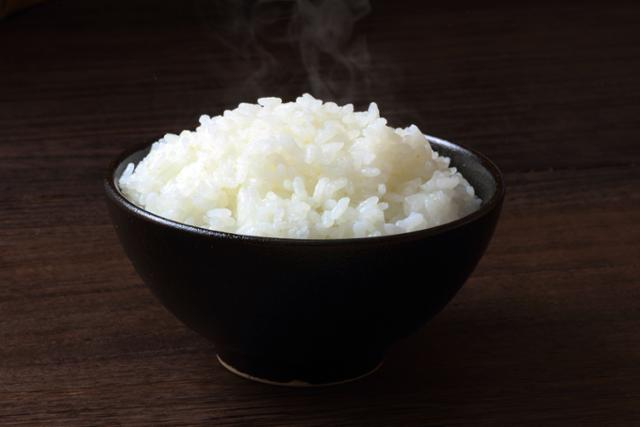ssalbab: (116, 90, 486, 240)
